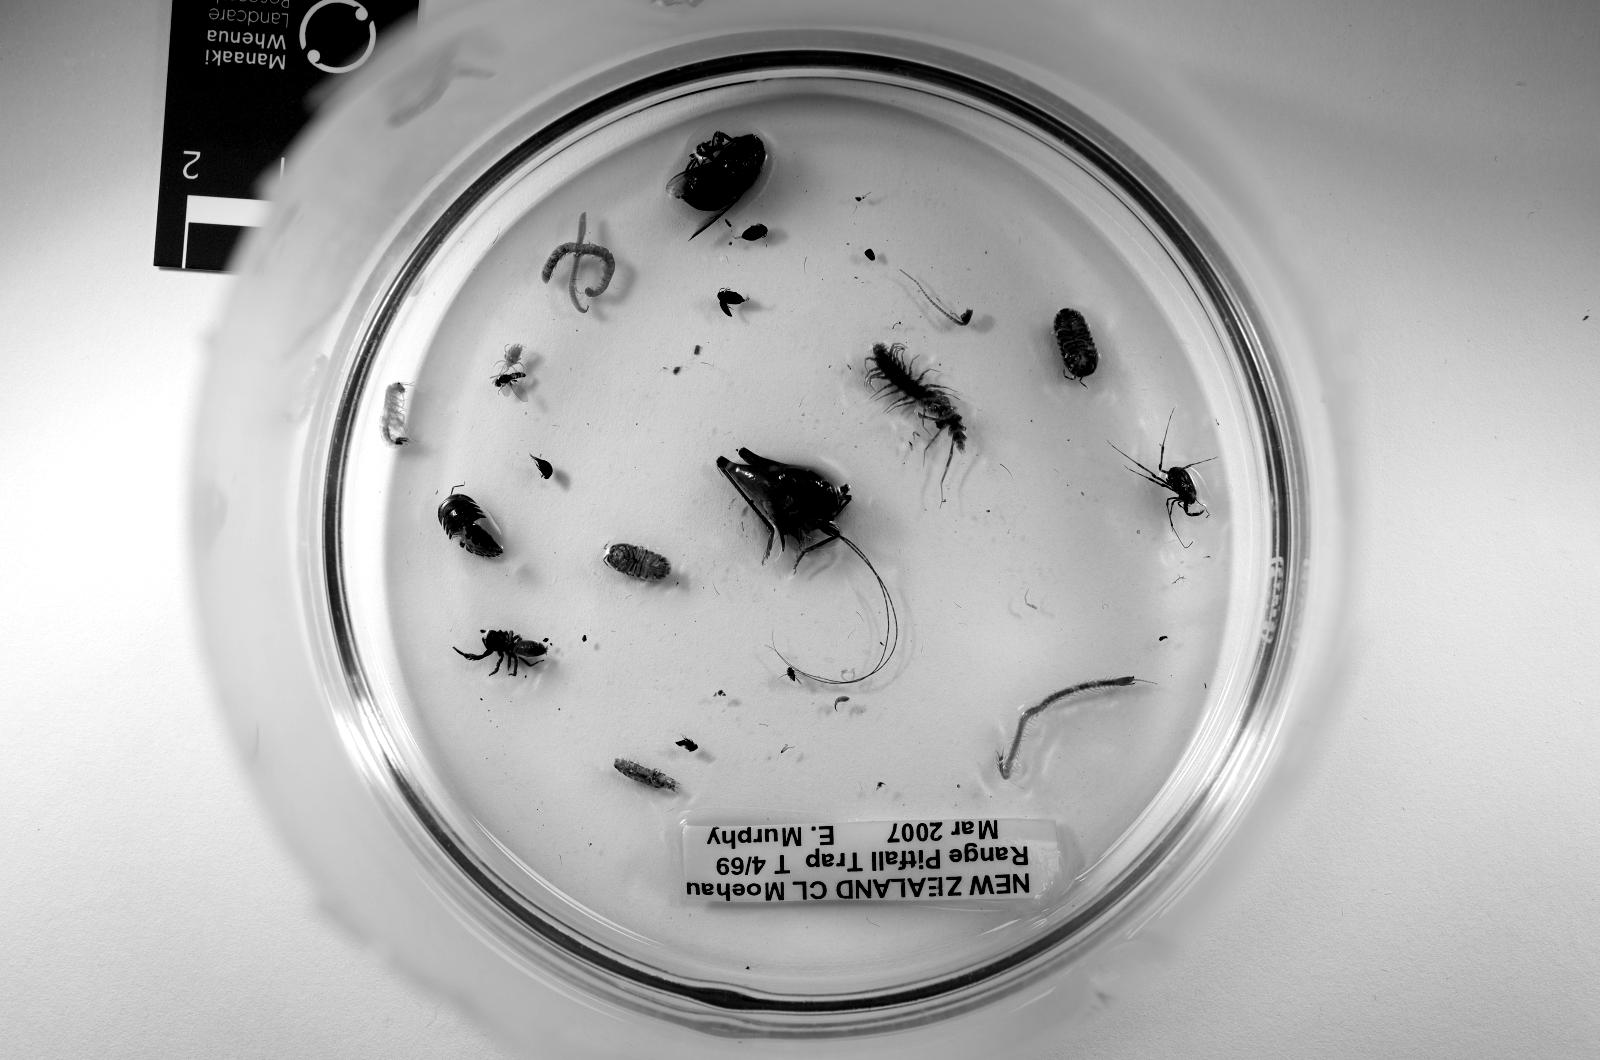amphipoda: (381, 382, 413, 447)
araneae: (459, 631, 546, 677)
chilopoda: (997, 677, 1153, 780), (866, 342, 966, 500)
coleoptera: (719, 292, 747, 317), (531, 453, 553, 481), (740, 224, 769, 243)
diplopoda: (540, 243, 616, 298)
diptera: (669, 134, 765, 233), (494, 373, 529, 401), (788, 667, 799, 684)
isopoda: (438, 493, 503, 556), (1054, 308, 1097, 382), (607, 543, 672, 581), (616, 761, 675, 789)
opiliones: (1132, 422, 1206, 525)
orthoptera: (715, 451, 896, 686)
